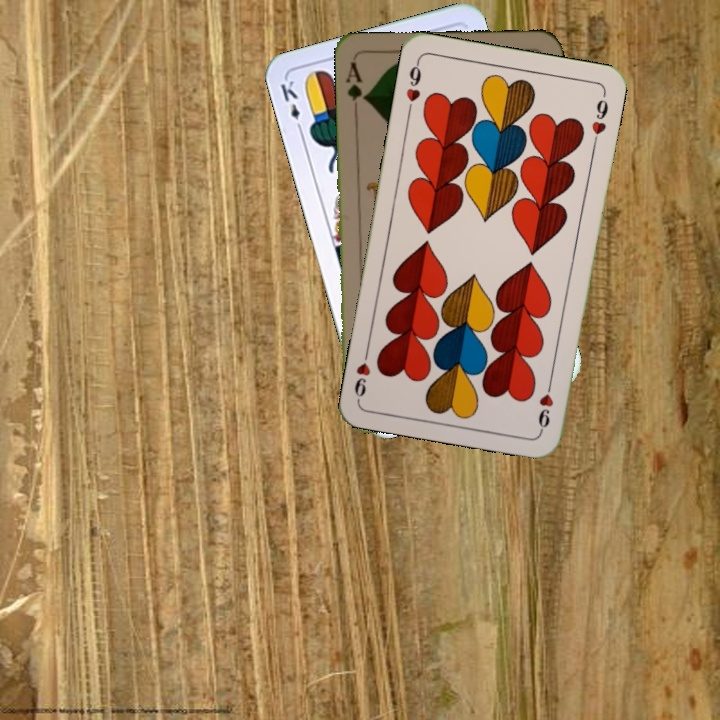EK: (276, 76, 306, 135)
GA: (342, 58, 369, 117)
H9: (402, 57, 424, 116), (534, 375, 556, 433)
